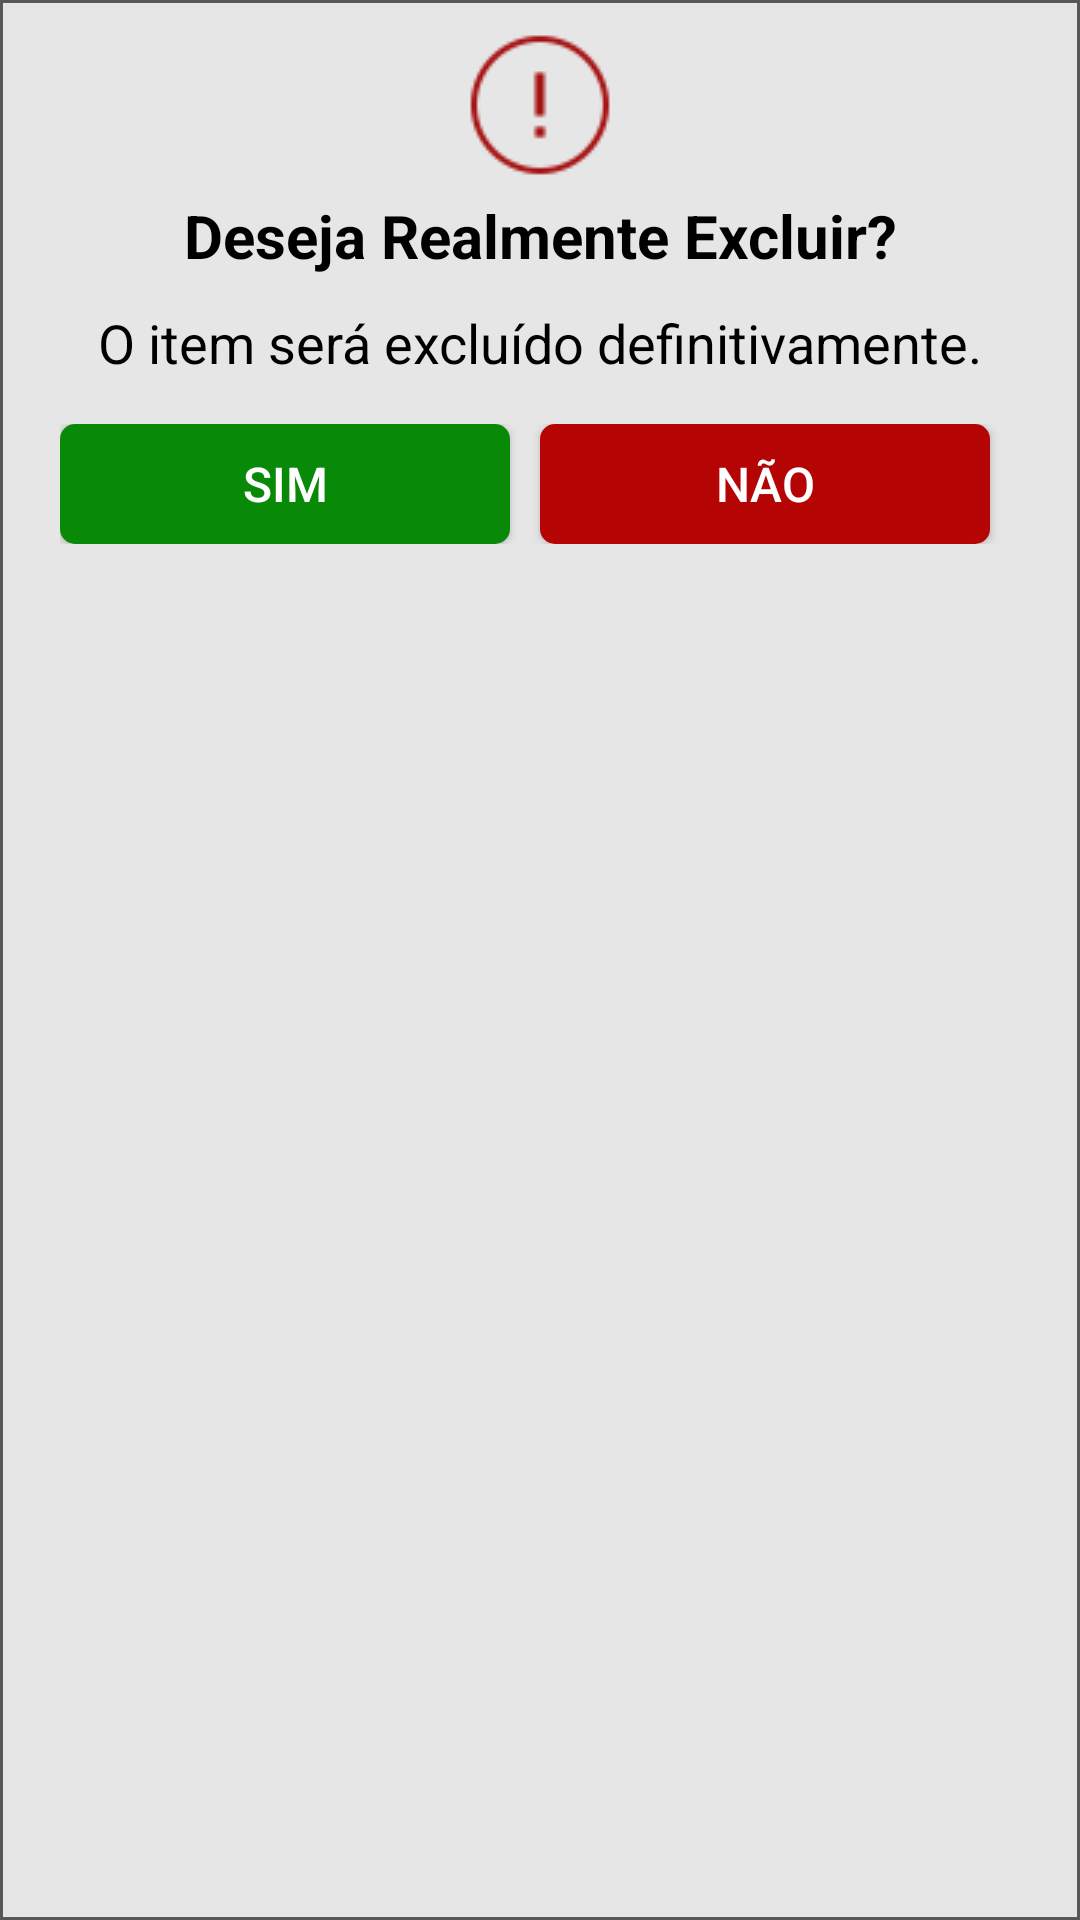

Icon bounding boxes for this 1080*1920 phone screenshot, format (x1, y1, x2, y2):
atencao: (470, 35, 610, 175)
